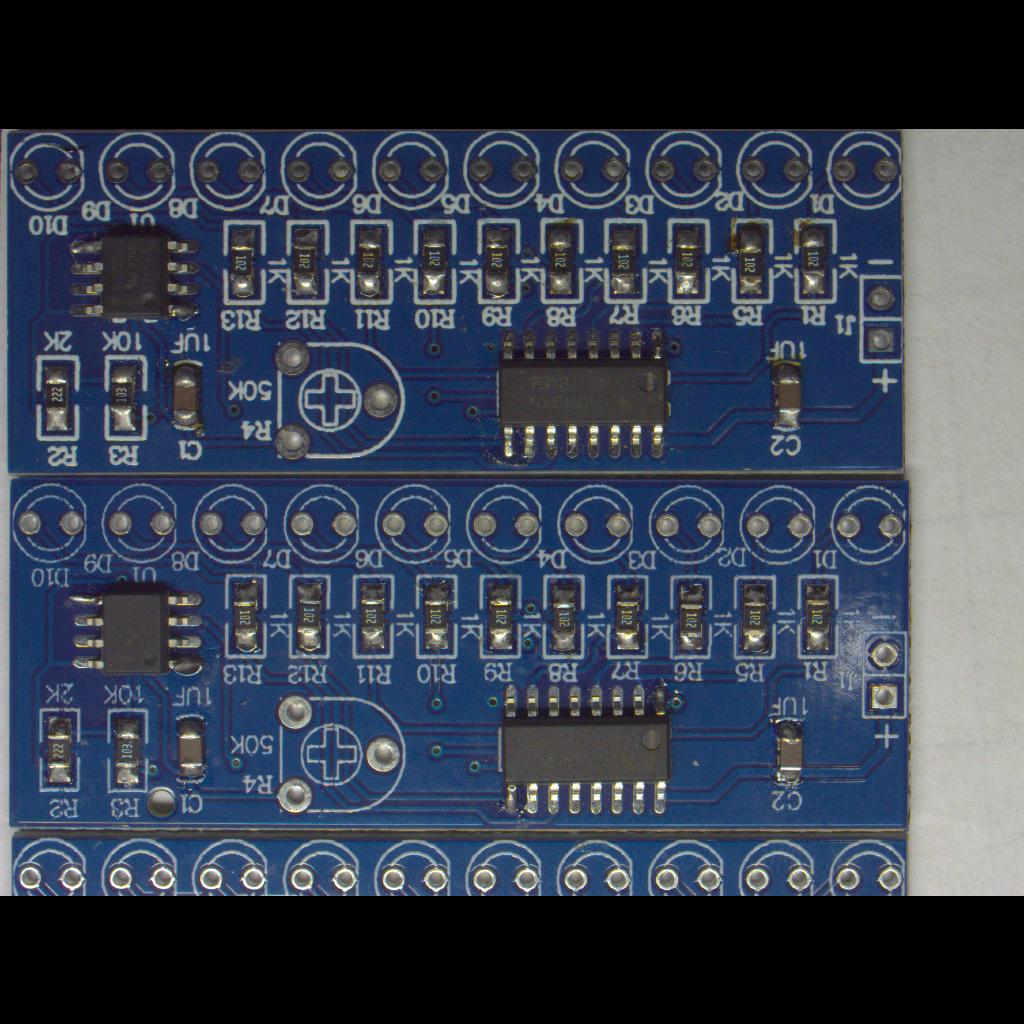OK: (494, 672, 684, 826), (489, 320, 679, 468), (61, 216, 213, 332), (60, 578, 212, 684), (600, 214, 652, 306), (790, 215, 840, 309), (220, 216, 270, 308), (284, 570, 334, 662), (222, 572, 272, 664), (34, 352, 84, 444), (476, 214, 524, 308), (665, 214, 713, 308), (728, 214, 776, 308), (414, 570, 462, 664), (103, 351, 151, 445), (730, 572, 780, 662), (348, 216, 396, 308), (104, 706, 152, 798), (285, 217, 333, 307), (412, 216, 460, 306), (538, 215, 586, 305), (540, 571, 588, 661), (476, 572, 524, 662), (37, 705, 83, 797), (349, 573, 397, 661), (668, 572, 714, 662), (606, 572, 652, 662), (764, 710, 814, 792), (164, 353, 208, 437), (768, 352, 808, 432), (172, 708, 210, 790), (801, 576, 835, 654)
